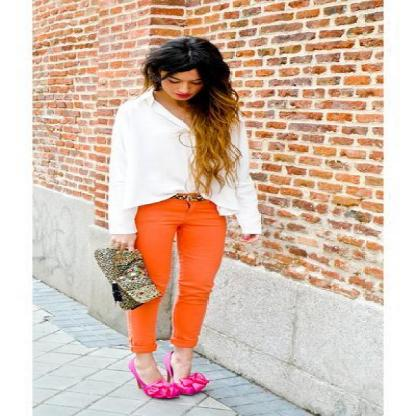bag: (97, 244, 161, 310)
pants: (129, 198, 227, 354)
shirt: (100, 92, 272, 233)
shoe: (132, 370, 210, 400)
